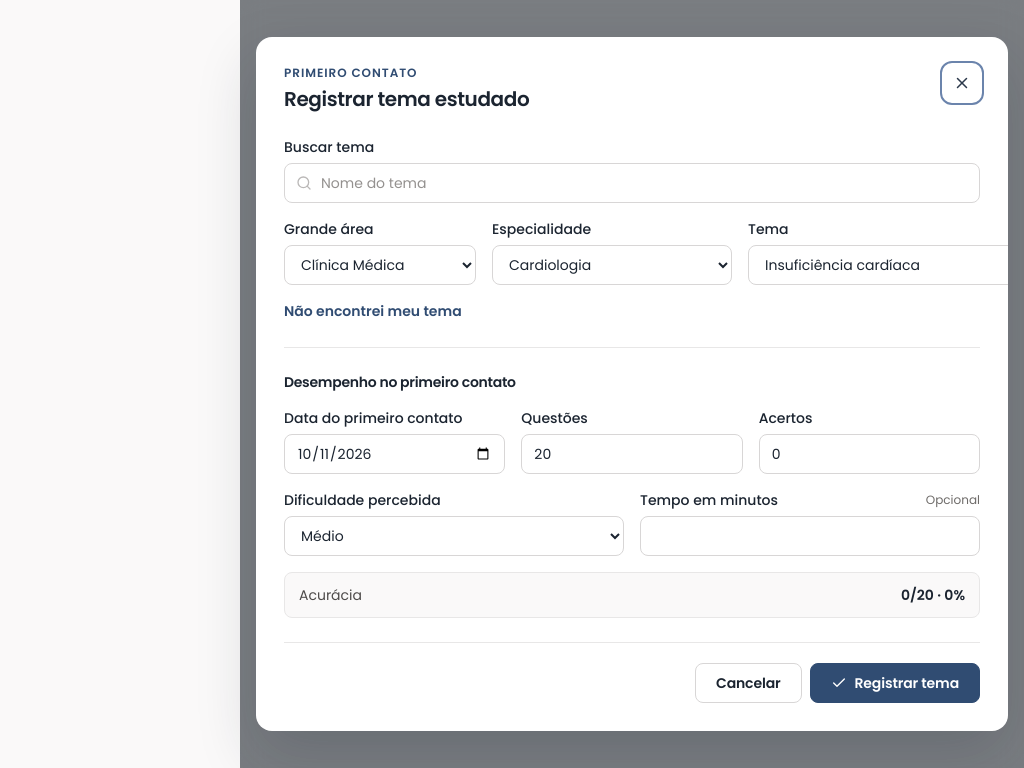
Test case: TopicFormModal › narrows specialties and topics when the area changes
expect the dropdown labelled "Tema" shows "Insuficiência cardíaca": met, box [748, 245, 1008, 285]
Select "Cirurgia" in the dropdown labelled "Grande área": (380, 265) [284, 245, 476, 285]
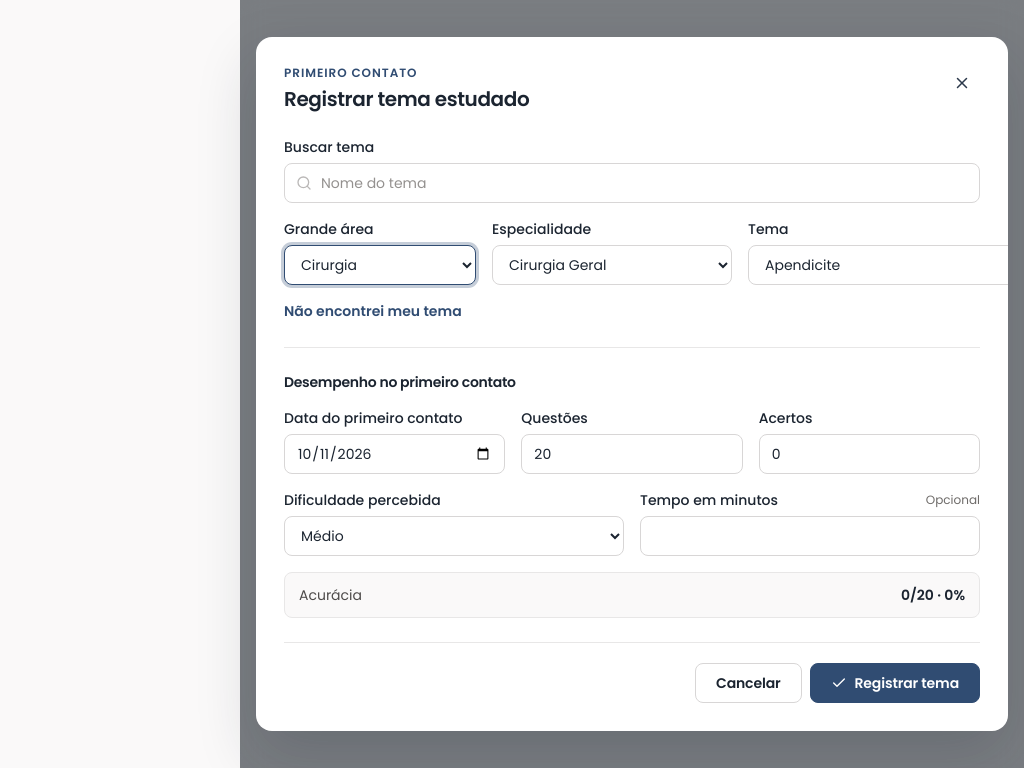
expect the dropdown labelled "Especialidade" shows "Cirurgia Geral": met, box [492, 245, 732, 285]
